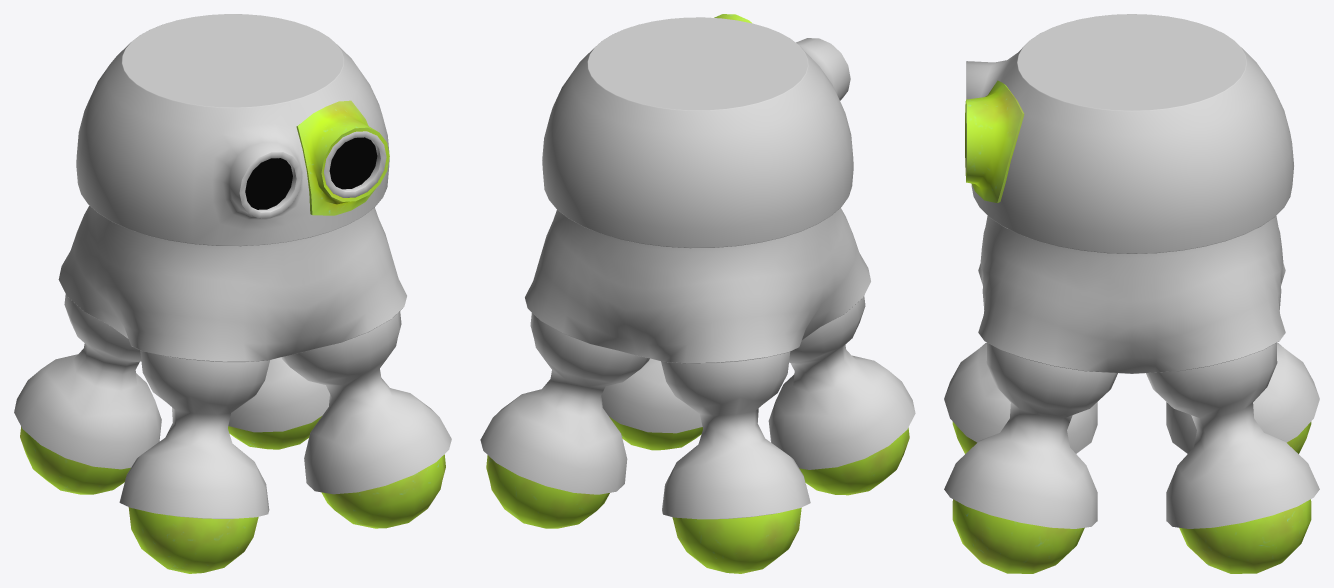
File: robo.glb
3 views of the same model, side by side, from view 1: azimuth 30°, elevation 25°; view 2: azimuth 150°, elevation 25°; view 3: azimuth 270°, elevation 25° (orthographic). The views are drawn at different scales.
Visible parts, largest first — view 1: Cube.009, Chhotu - the mini robot, Cube.004, Cube.001, Cube.008, Cube.003, Cube.011, Cube.006, Cube, Cube.010, Cube.007, Cube.005; view 2: Cube.009, Chhotu - the mini robot, Cube.008, Cube.006, Cube.004, Cube.007, Cube.001, Cube.005, Cube.003, Cube; view 3: Cube.009, Chhotu - the mini robot, Cube.006, Cube.001, Cube.005, Cube, Cube.011, Cube.008, Cube.004.
Part boxes in pixels (left/top/right/bottom): Cube.009: left=76, top=14, right=389, bottom=246; Chhotu - the mini robot: left=58, top=205, right=406, bottom=362; Cube.004: left=119, top=350, right=269, bottom=518; Cube.001: left=281, top=311, right=451, bottom=494; Cube.008: left=14, top=294, right=161, bottom=469; Cube.003: left=128, top=507, right=258, bottom=573; Cube.011: left=296, top=100, right=389, bottom=215; Cube.006: left=228, top=357, right=329, bottom=432; Cube: left=321, top=454, right=445, bottom=528; Cube.010: left=245, top=137, right=377, bottom=209; Cube.007: left=20, top=426, right=130, bottom=494; Cube.005: left=228, top=416, right=321, bottom=449; Cube.009: left=542, top=17, right=853, bottom=248; Chhotu - the mini robot: left=525, top=207, right=870, bottom=363; Cube.008: left=661, top=352, right=810, bottom=519; Cube.006: left=480, top=312, right=649, bottom=494; Cube.004: left=768, top=296, right=915, bottom=469; Cube.007: left=672, top=507, right=801, bottom=573; Cube.001: left=601, top=358, right=702, bottom=433; Cube.005: left=486, top=455, right=609, bottom=528; Cube.003: left=799, top=427, right=909, bottom=495; Cube: left=609, top=416, right=702, bottom=450; Cube.009: left=966, top=14, right=1293, bottom=253; Chhotu - the mini robot: left=978, top=216, right=1285, bottom=373; Cube.006: left=1146, top=342, right=1319, bottom=528; Cube.001: left=944, top=342, right=1117, bottom=528; Cube.005: left=1179, top=499, right=1311, bottom=573; Cube: left=952, top=499, right=1084, bottom=573; Cube.011: left=965, top=80, right=1024, bottom=202; Cube.008: left=1166, top=342, right=1319, bottom=453; Cube.004: left=944, top=342, right=1097, bottom=453.
Bounding box in the file's own units: 0.264 × 0.357 × 0.2654.
Materials: 3 (1 with a texture image).
